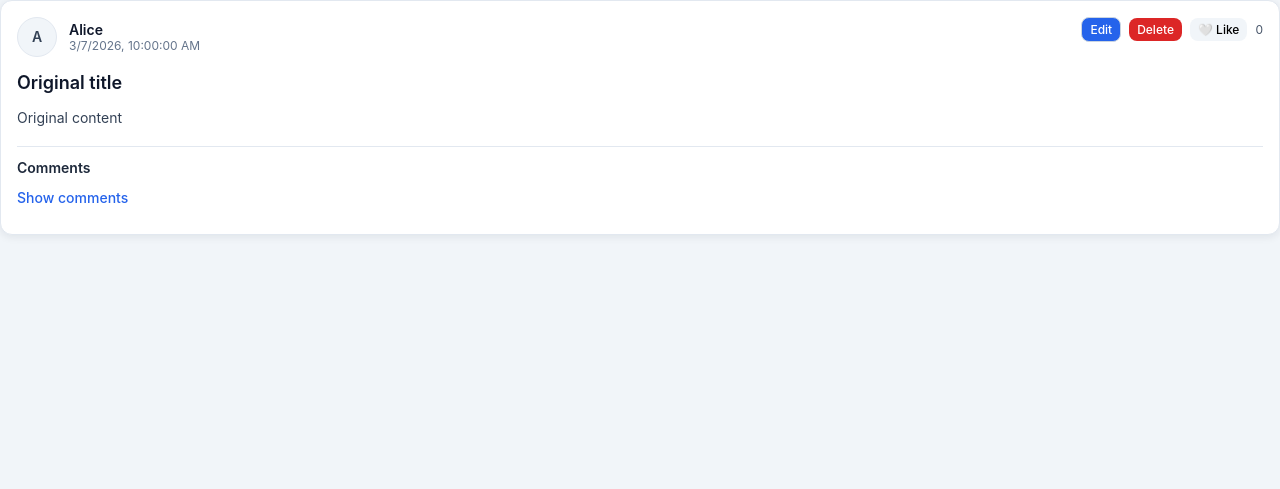
Scenario: PostCard › Post management › edits title/content and saves post
Click the button with test id "post-edit-post-manage-3": (1101, 30) [1081, 17, 1121, 42]
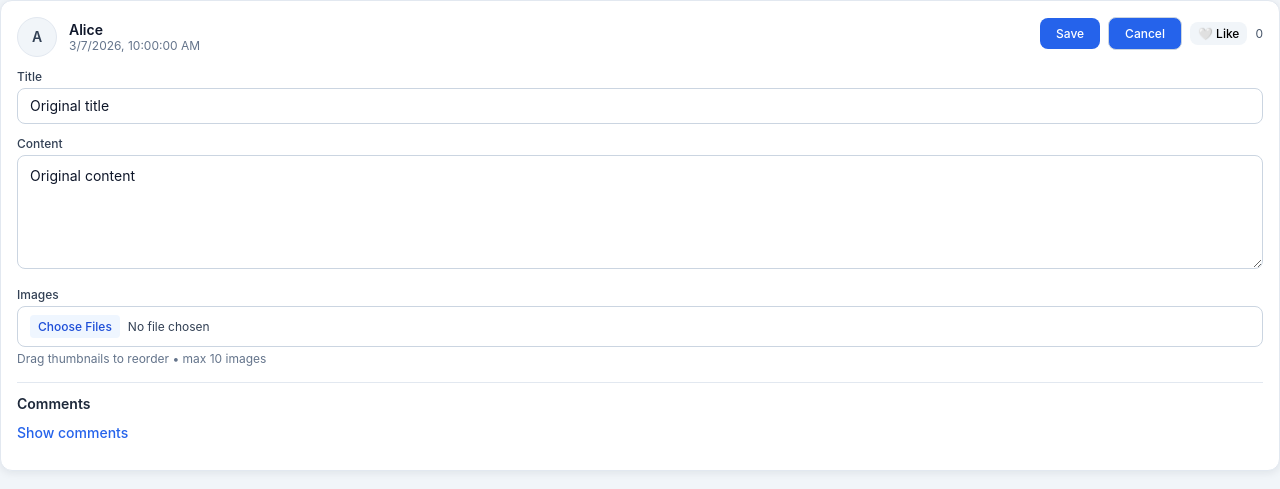
Replace the text in the field with test id "post-edit-title-input-post-manage-3" with "  Updated title  ": (640, 106) [17, 88, 1263, 124]
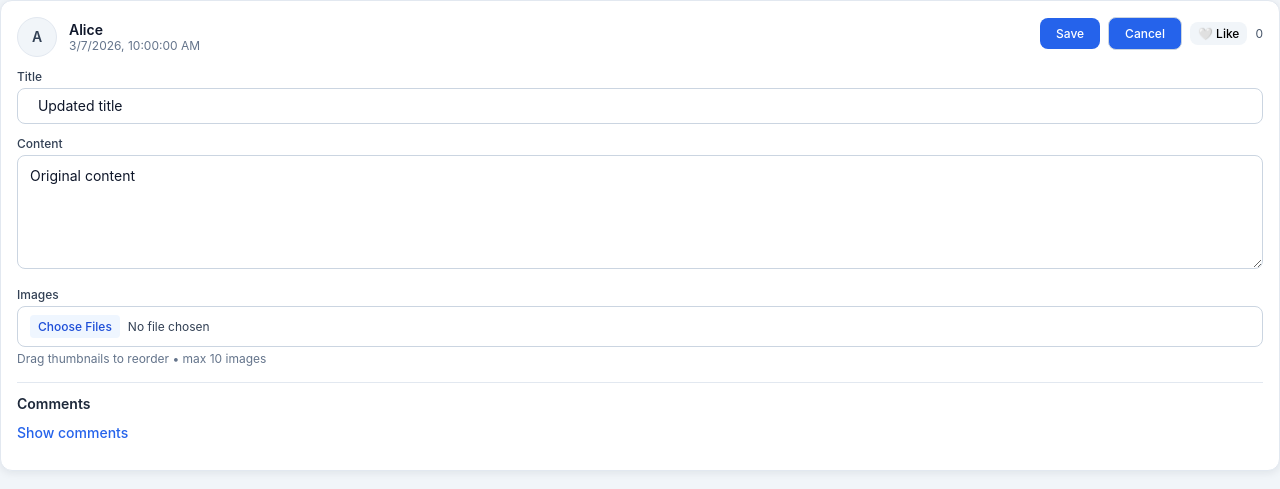
Replace the text in the text box with test id "post-edit-content-input-post-manage-3" with "  Updated content  ": (640, 212) [17, 154, 1263, 268]
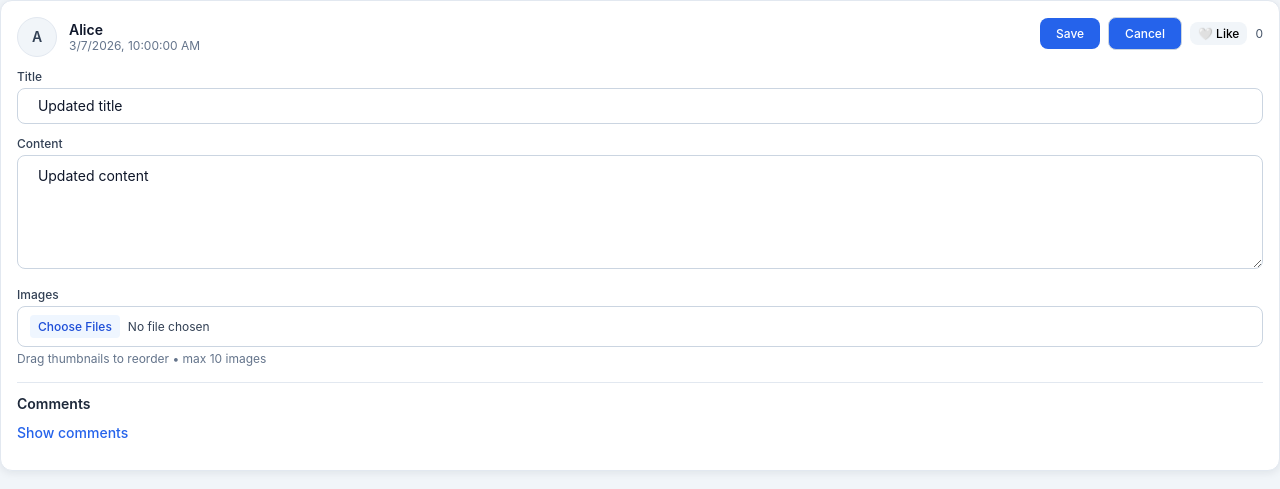
Click the button with test id "post-save-post-manage-3": (1070, 34) [1040, 18, 1100, 49]
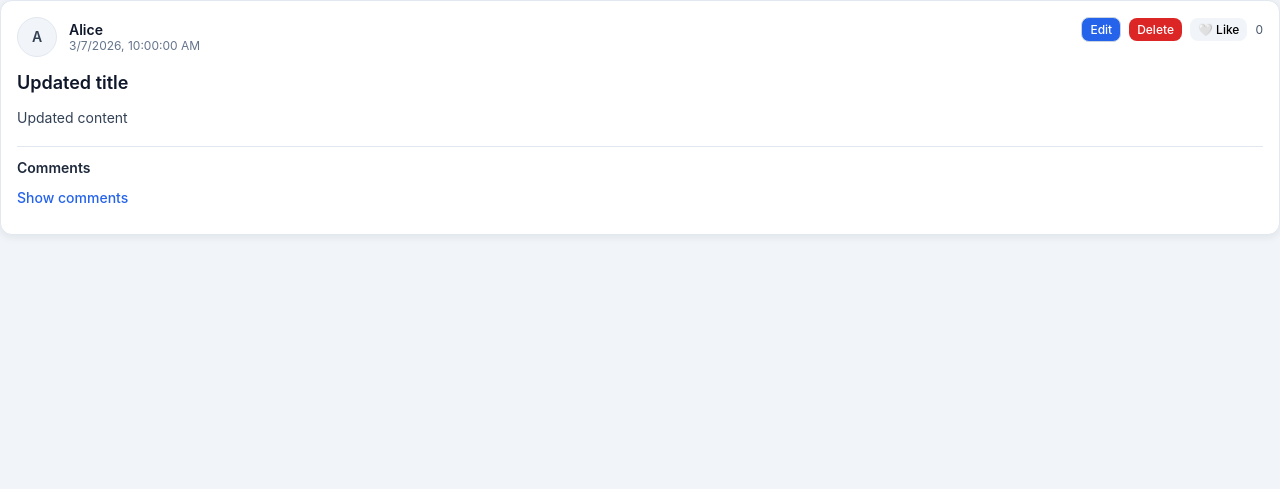
Check: the heading with test id "post-title-post-manage-3" reads "Updated title", box [17, 72, 128, 93]
Check: the text with test id "post-content-post-manage-3" reads "Updated content", box [17, 109, 128, 126]
